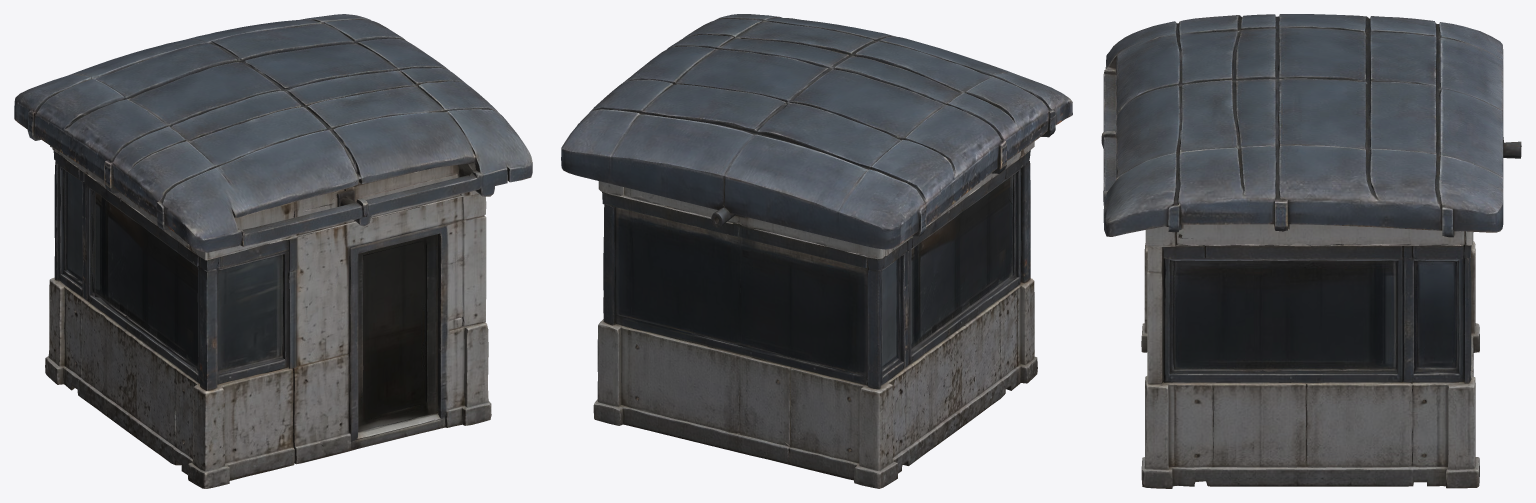
Rendered from PROP-BOOTH-lod0.glb.
The picture shows the model from 3 angles, left to right: view 1: azimuth 30°, elevation 25°; view 2: azimuth 150°, elevation 25°; view 3: azimuth 270°, elevation 25°; orthographic projection. The views are drawn at different scales.
Parts seen in each view (by area): view 1: Mesh; view 2: Mesh; view 3: Mesh.
Part boxes in pixels (x1=…): Mesh: x1=14, y1=14, x2=532, y2=488; Mesh: x1=561, y1=14, x2=1072, y2=488; Mesh: x1=1101, y1=14, x2=1521, y2=488.
Bounding box in the file's own units: 1.9 × 1.65 × 1.86.
1 material, 1 textured.
